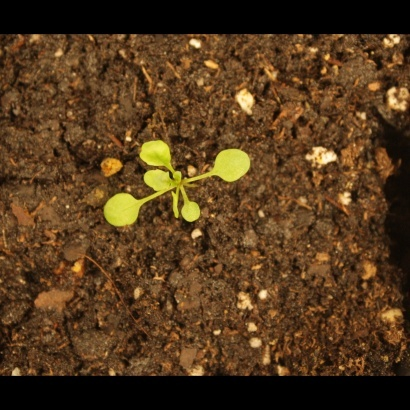leaf: (102, 186, 145, 233), (215, 148, 253, 185), (141, 133, 179, 169), (142, 166, 176, 200), (161, 191, 184, 223), (183, 196, 208, 225), (169, 165, 192, 188)
